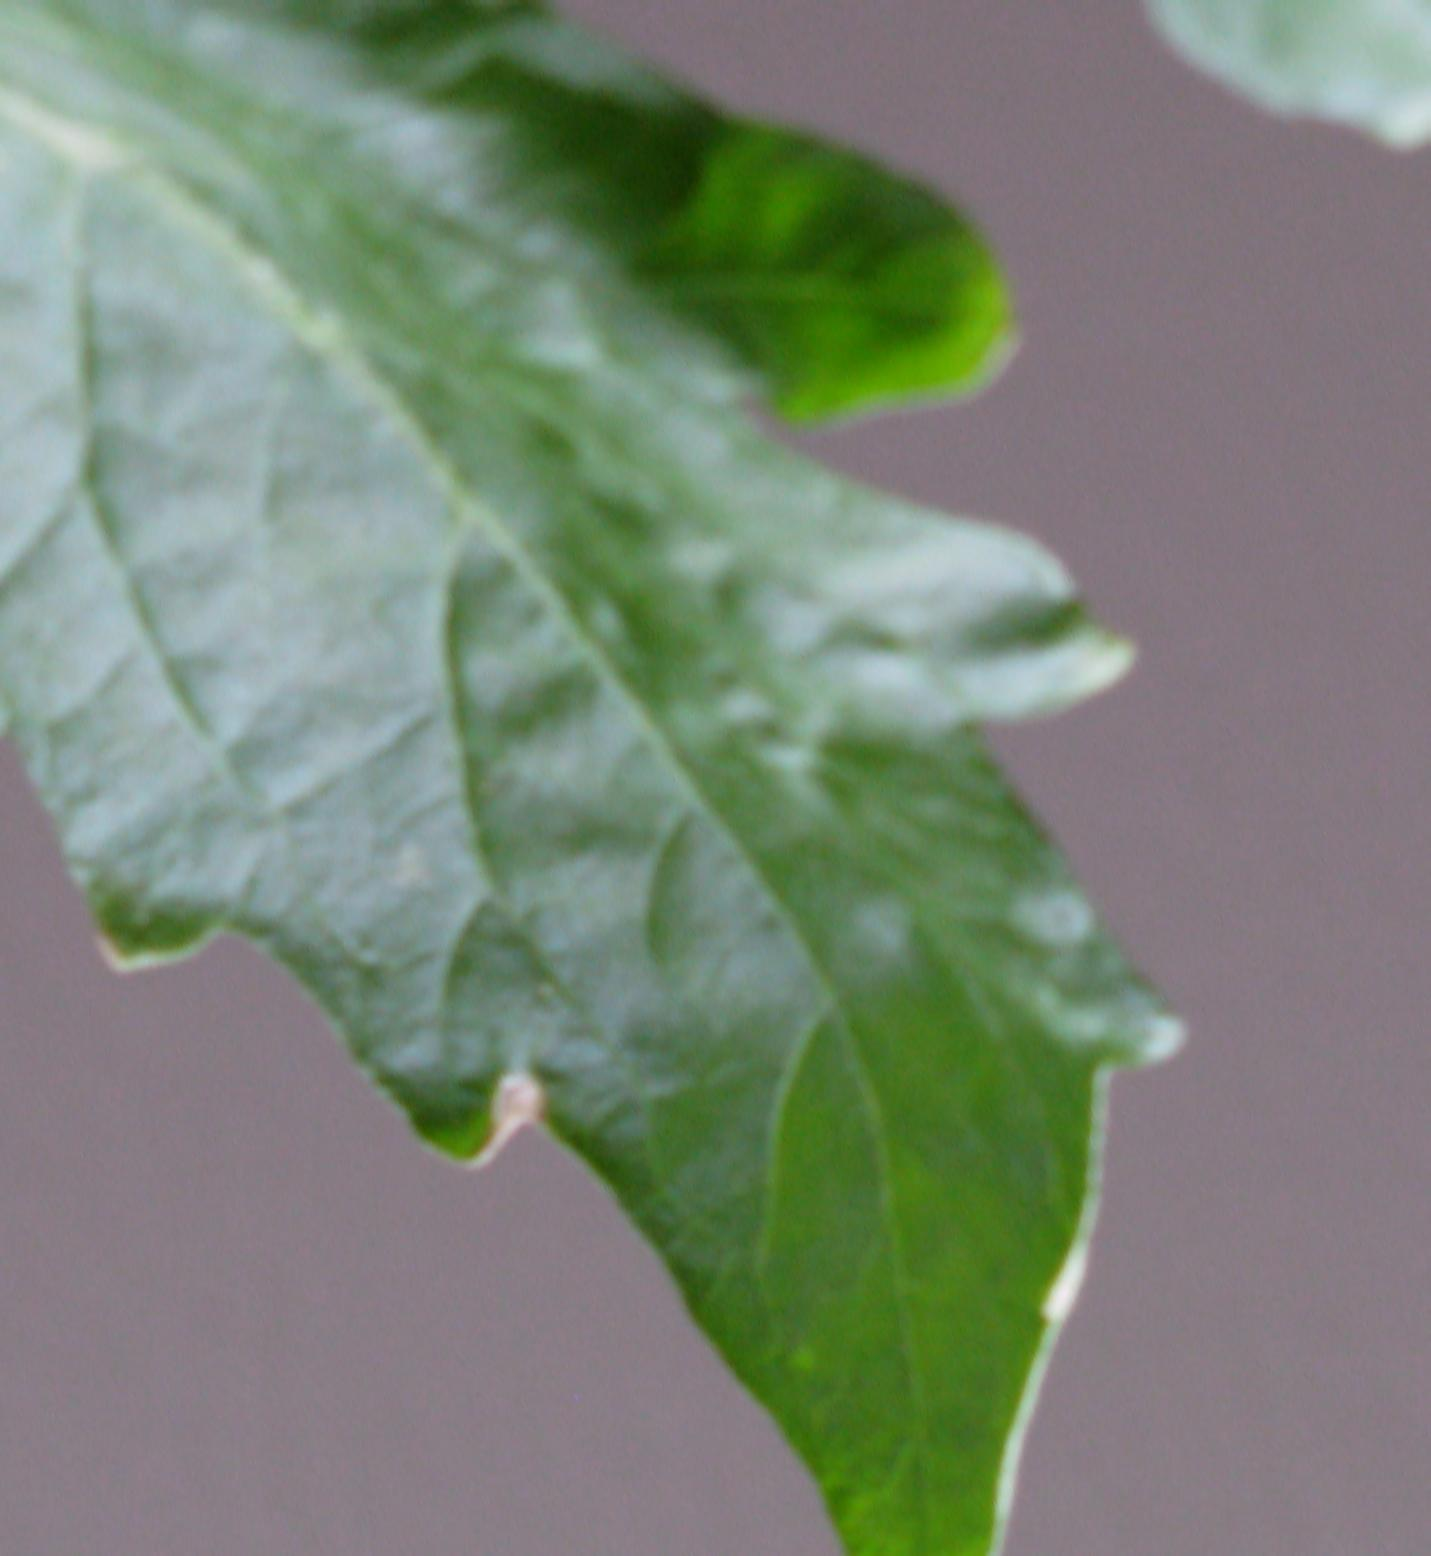Tomato leaf: (0, 0, 1180, 1556)
